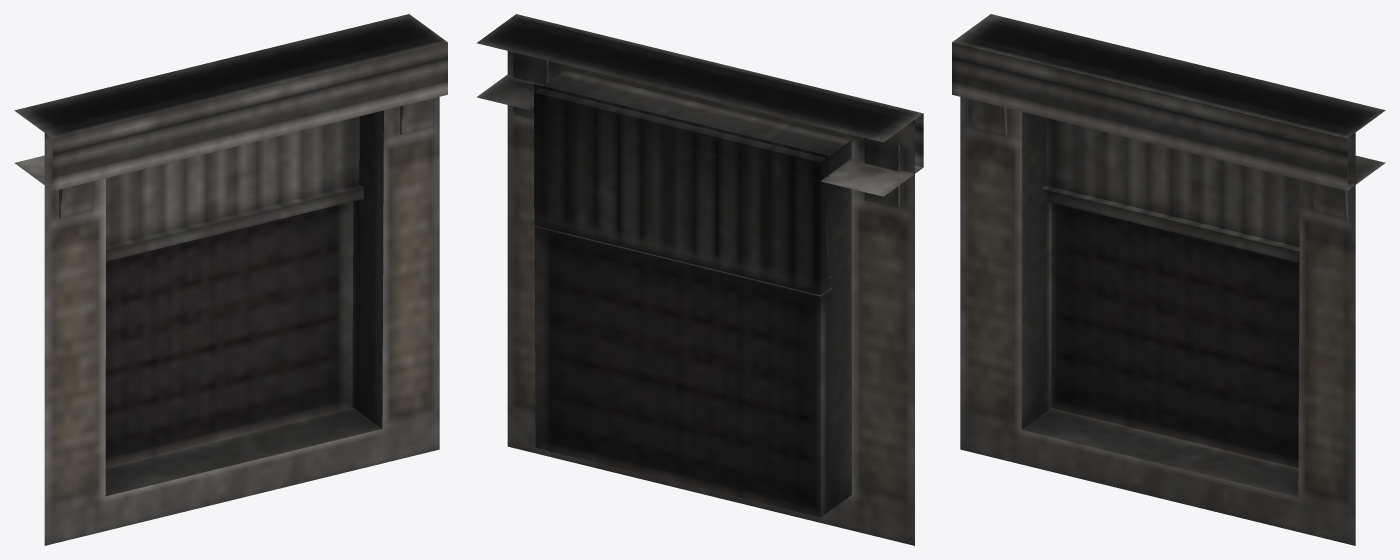
Rendered from B1_FirstFloorStore.FBX.
The picture shows the model from 3 angles, left to right: view 1: azimuth 30°, elevation 25°; view 2: azimuth 150°, elevation 25°; view 3: azimuth 330°, elevation 25°; orthographic projection. The views are drawn at different scales.
Visible parts, largest first — view 1: B1_FirstFloorStore; view 2: B1_FirstFloorStore; view 3: B1_FirstFloorStore.
Boxes of the visible parts, x1,y1,x2,y2 form: B1_FirstFloorStore: [14, 14, 447, 545]; B1_FirstFloorStore: [476, 14, 923, 545]; B1_FirstFloorStore: [952, 14, 1385, 545].
Bounding box in the file's own units: 4 × 4 × 0.6952.
